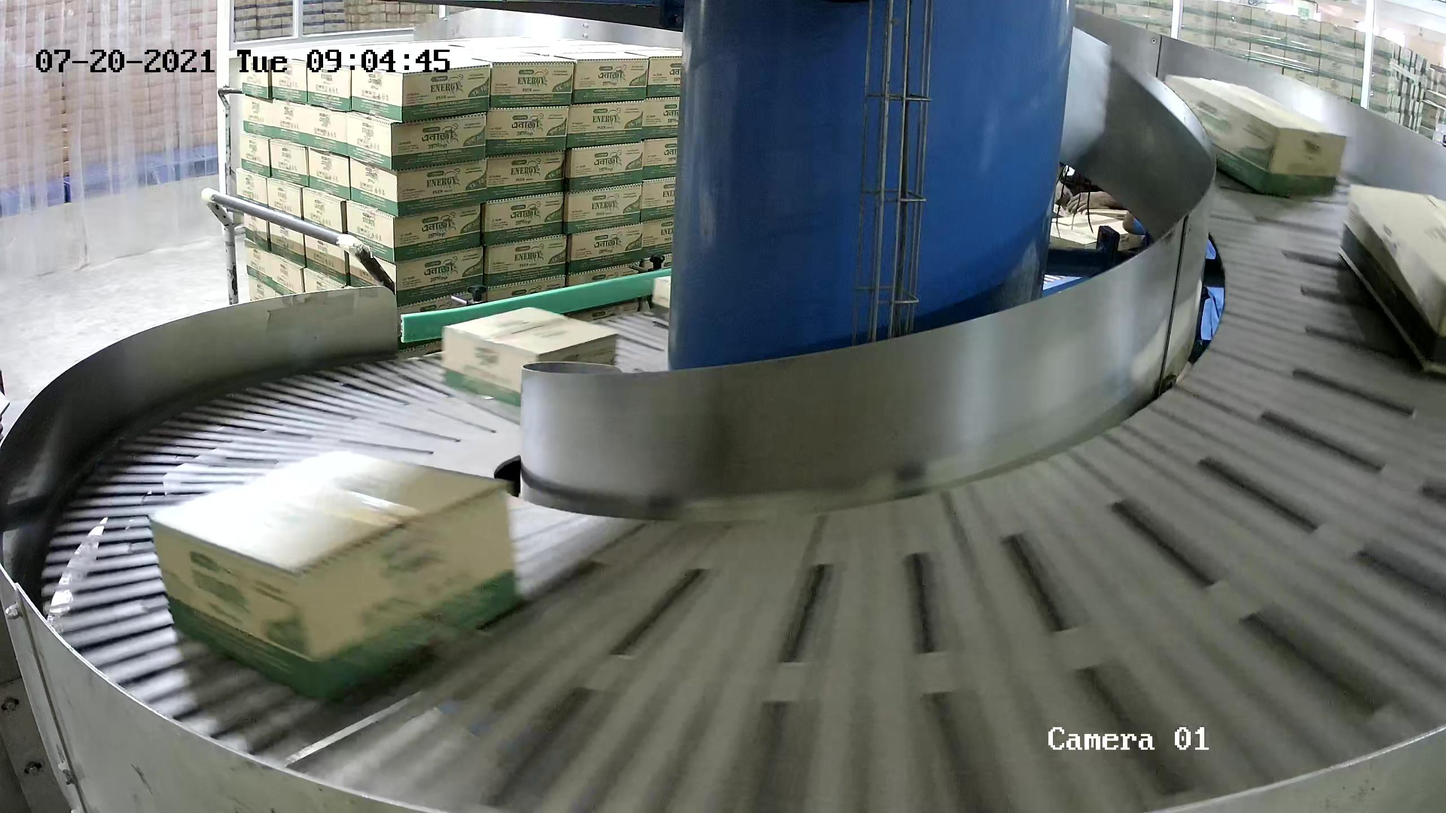Box: (149, 446, 522, 706), (1148, 73, 1350, 199), (1337, 180, 1446, 381), (441, 306, 618, 408)
